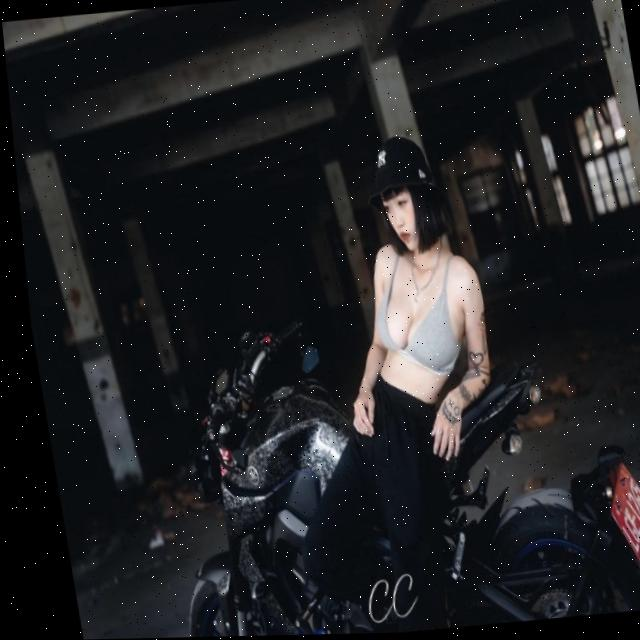illegal_helmet: (348, 128, 456, 267)
